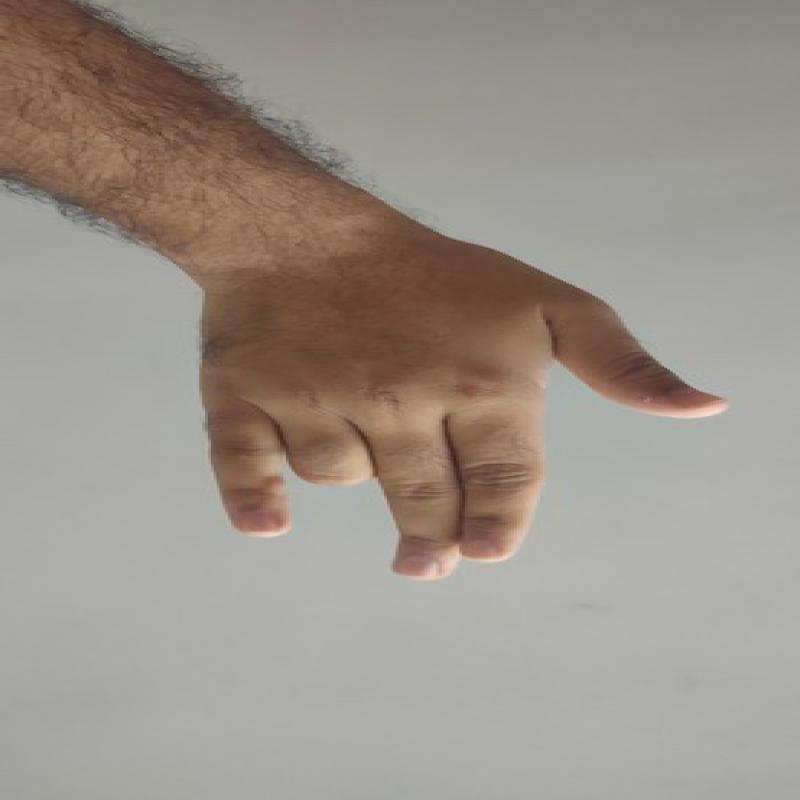Pathaaka: (197, 211, 736, 597)
